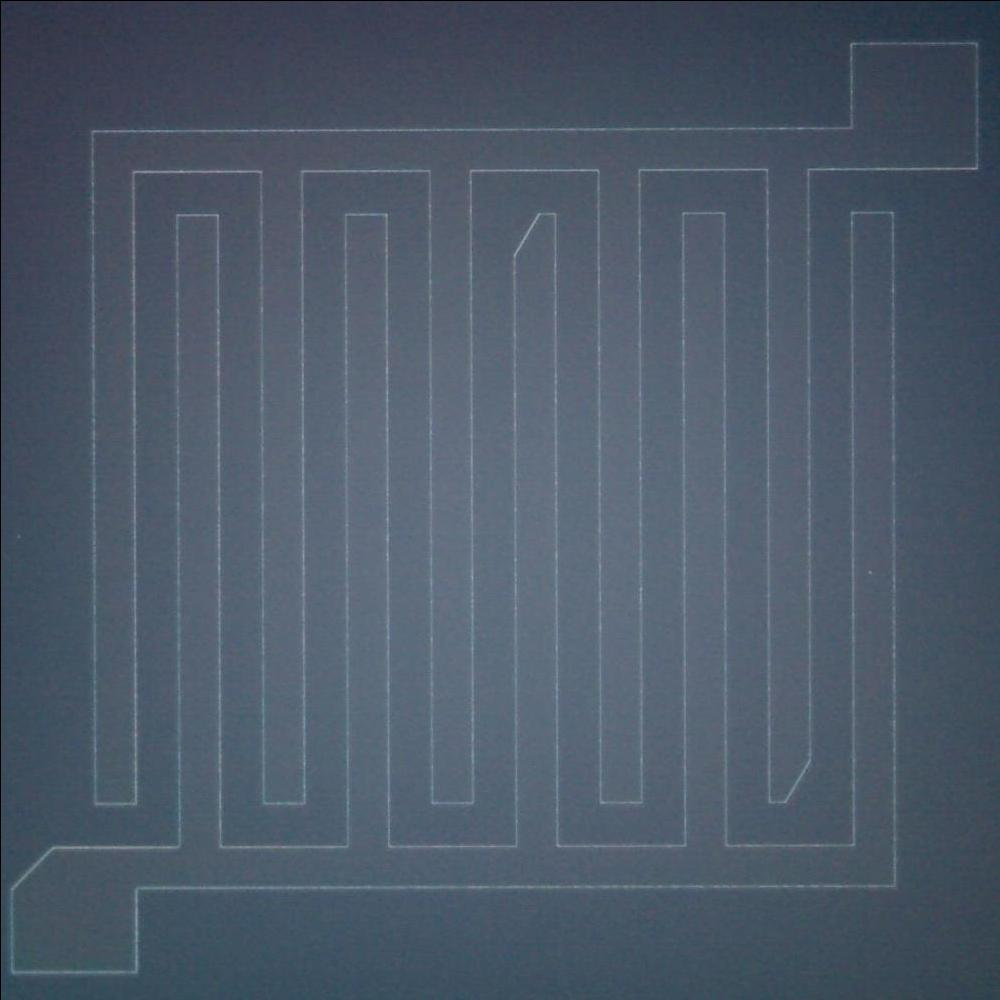edge circuit: (501, 196, 564, 270), (1, 835, 65, 905), (762, 753, 820, 816)
